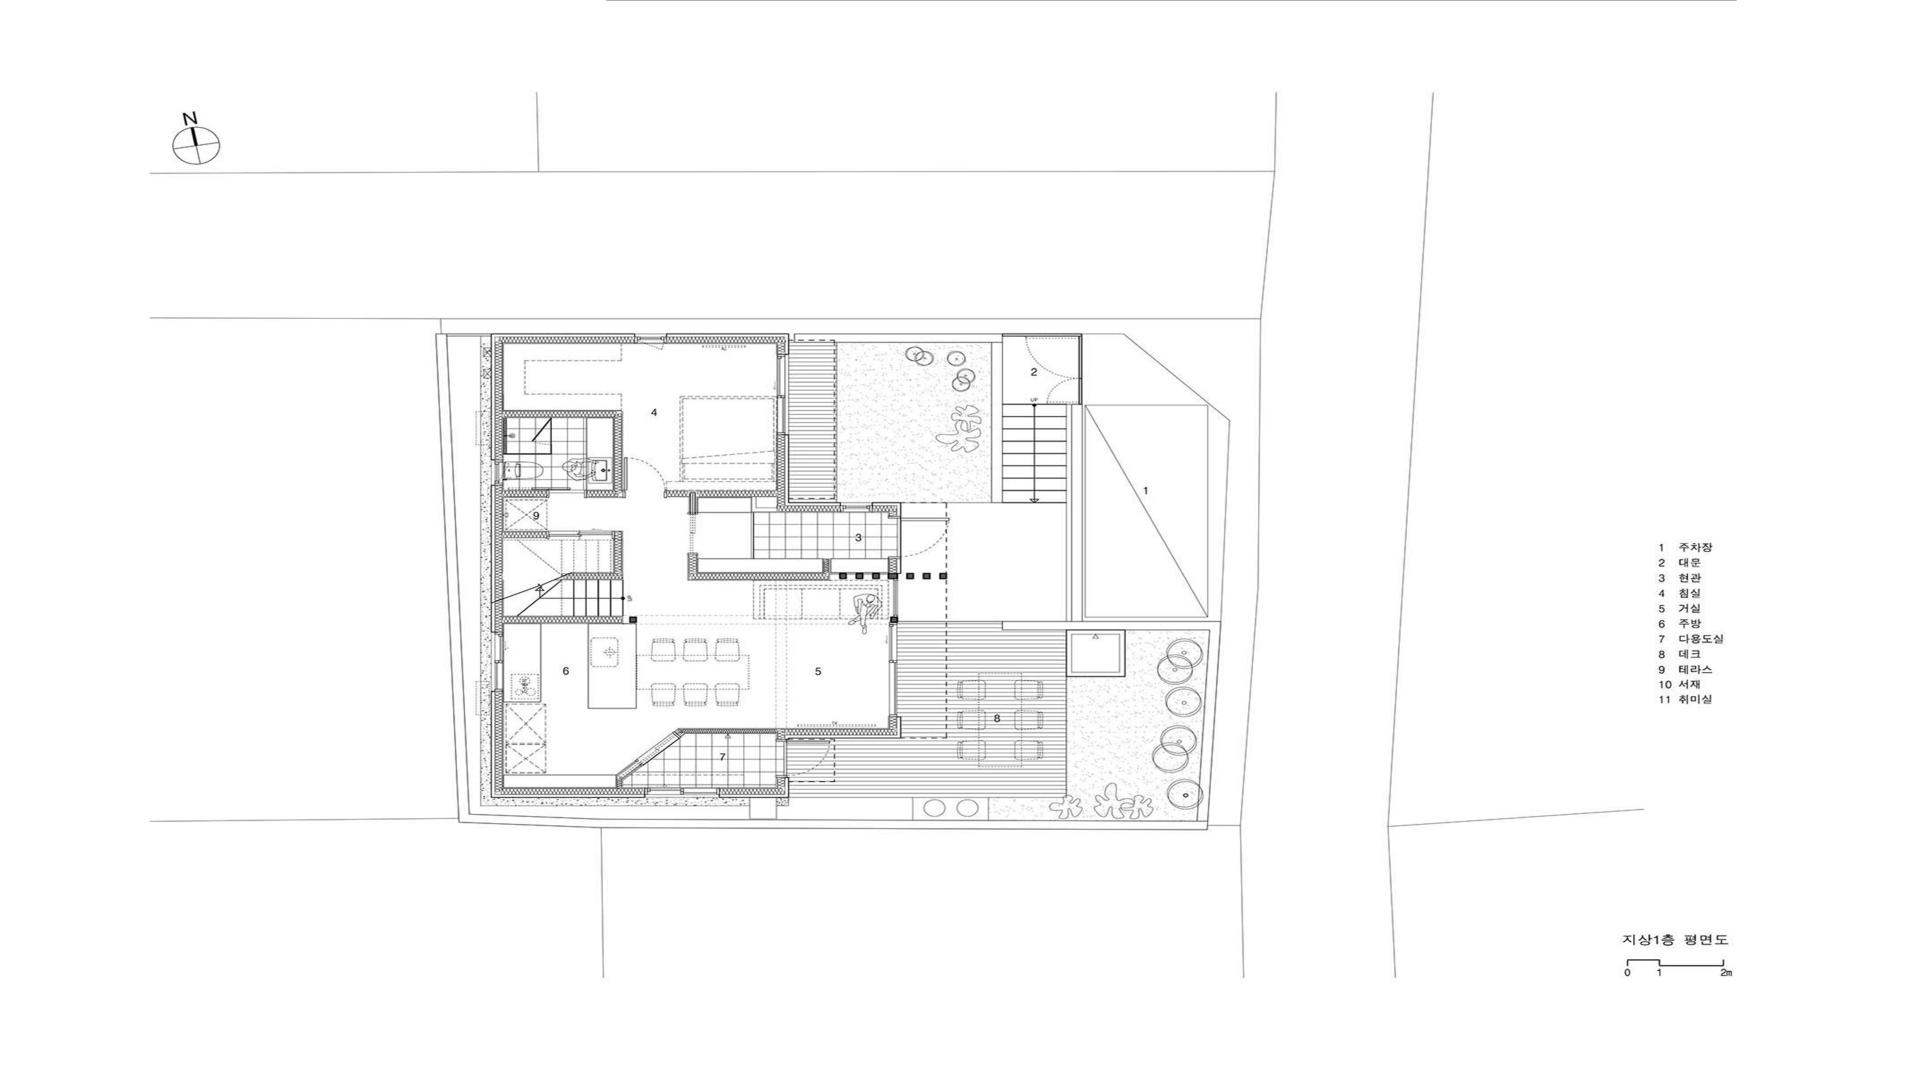door: (888, 518, 950, 556), (776, 739, 831, 777), (623, 457, 667, 498), (547, 531, 613, 540), (531, 418, 552, 446), (547, 488, 587, 498), (689, 515, 696, 552)
wall: (491, 485, 504, 632), (491, 787, 645, 798), (491, 333, 503, 460), (699, 572, 888, 580), (503, 333, 635, 343), (491, 691, 504, 787), (666, 333, 789, 343), (778, 728, 889, 739), (504, 616, 637, 624), (777, 434, 789, 512), (674, 728, 777, 737), (503, 410, 613, 418), (613, 410, 623, 490), (667, 490, 776, 497), (616, 761, 642, 787), (719, 788, 777, 798), (555, 572, 623, 580), (789, 502, 841, 512), (613, 531, 623, 572), (888, 556, 901, 580), (503, 531, 547, 538), (503, 490, 547, 497), (872, 502, 901, 512), (587, 490, 623, 498), (889, 716, 901, 739), (688, 553, 698, 580), (777, 777, 789, 798), (687, 497, 698, 514), (777, 343, 789, 355), (822, 558, 831, 572), (503, 453, 552, 455), (888, 512, 901, 518), (890, 617, 898, 623), (550, 446, 552, 453)
window: (635, 731, 681, 766), (777, 355, 789, 434), (889, 623, 898, 716), (491, 633, 504, 691), (645, 788, 719, 798), (635, 334, 666, 350), (491, 460, 510, 485), (841, 502, 872, 512), (892, 580, 898, 616)
